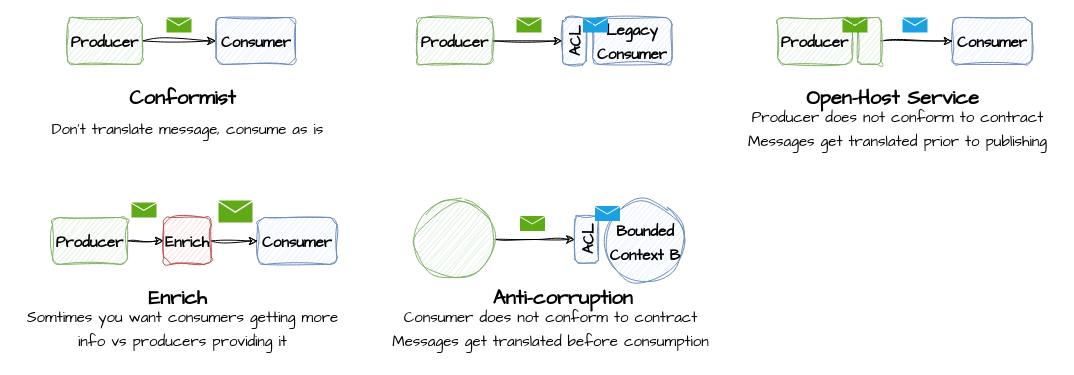
This 1074x375 diagram has some shape labels left out. Here are the shapes that lost their labels. From the top down, the centre of each, then its label:
At pixel 868 40: "OH".
At pixel 454 239: "Bounded Context A".
